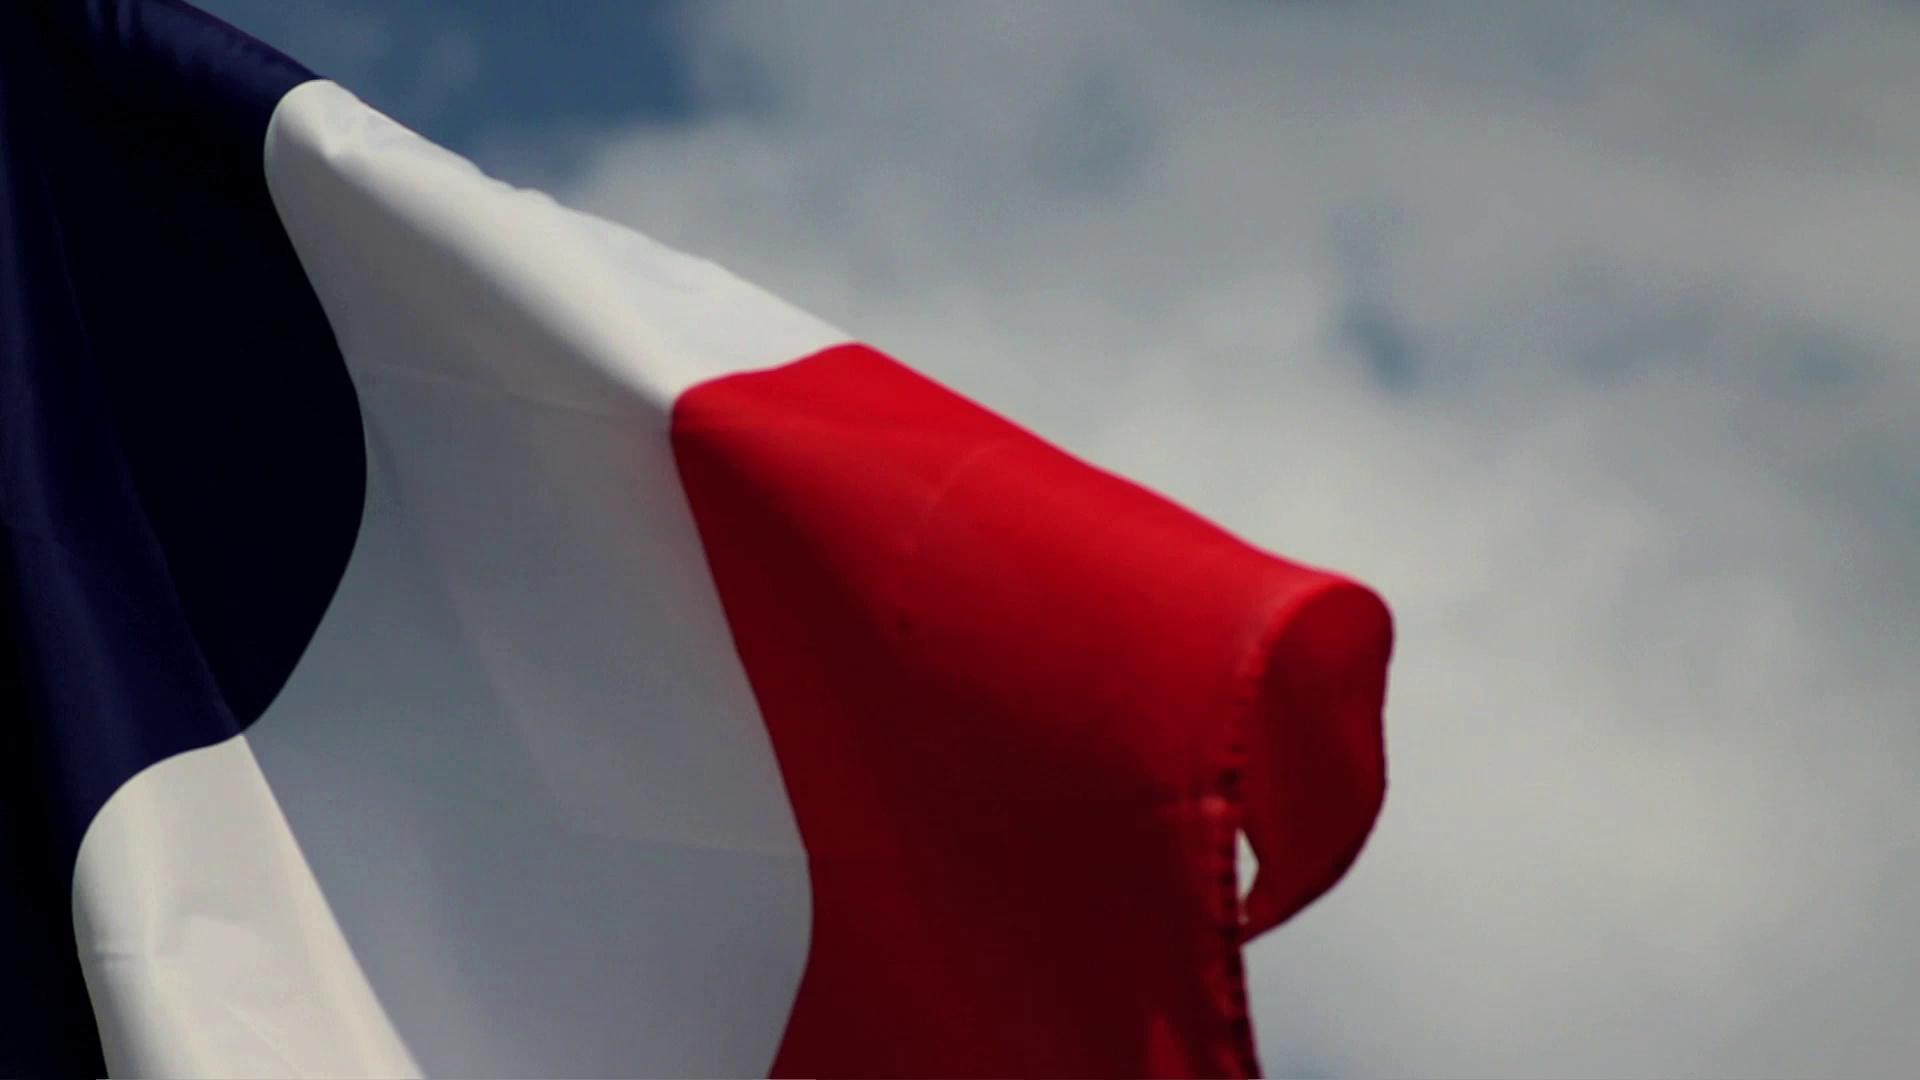French Flag: (1, 1, 1394, 1080)
